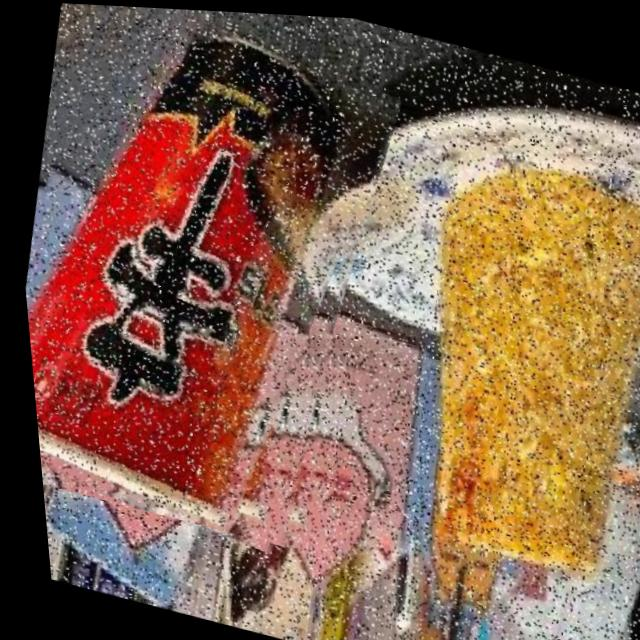Miscellaneous: (0, 0, 421, 559)
